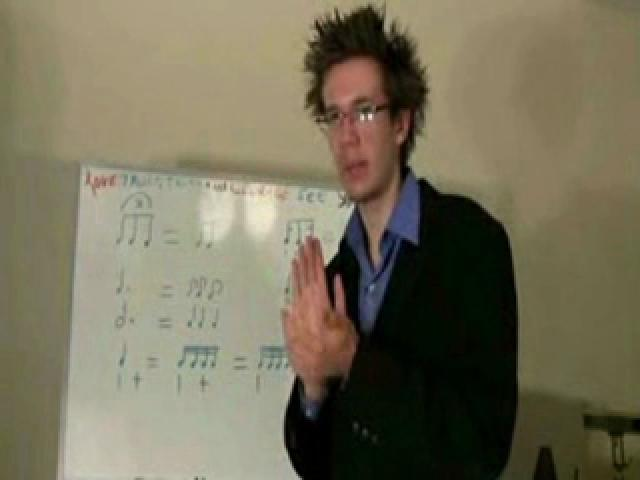F: (258, 2, 518, 478)
